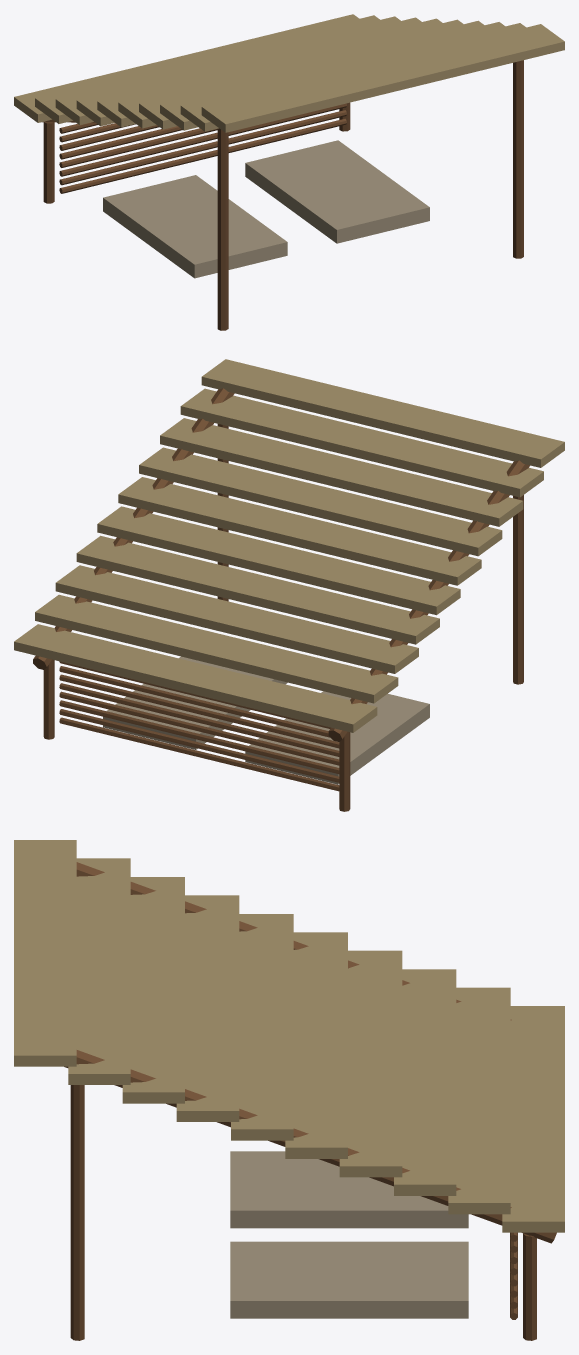
Rendered from rooted_lean_to.glb.
3 views of the same model, one above another, from view 1: azimuth 30°, elevation 25°; view 2: azimuth 150°, elevation 25°; view 3: azimuth 270°, elevation 25° (orthographic). The views are drawn at different scales.
Visible parts, largest first — view 1: rooted_lean_to; view 2: rooted_lean_to; view 3: rooted_lean_to.
Boxes of the visible parts, x1,y1,x2,y2 form: rooted_lean_to: (14, 14, 564, 330); rooted_lean_to: (14, 359, 564, 811); rooted_lean_to: (14, 840, 564, 1340).
Size of the model in its own units: 3.1 by 1.99 by 3.35.
